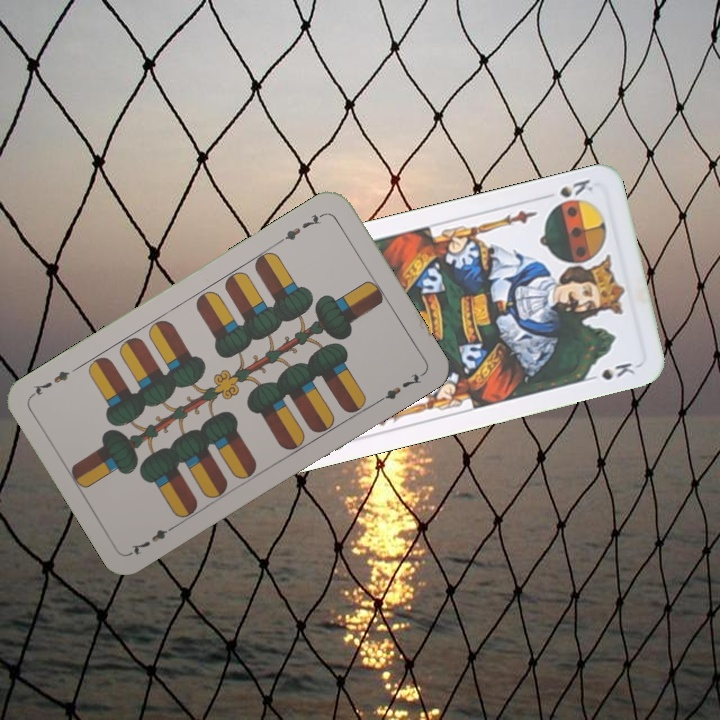E7: (274, 208, 328, 246), (126, 520, 180, 558)
SK: (555, 175, 596, 200)
